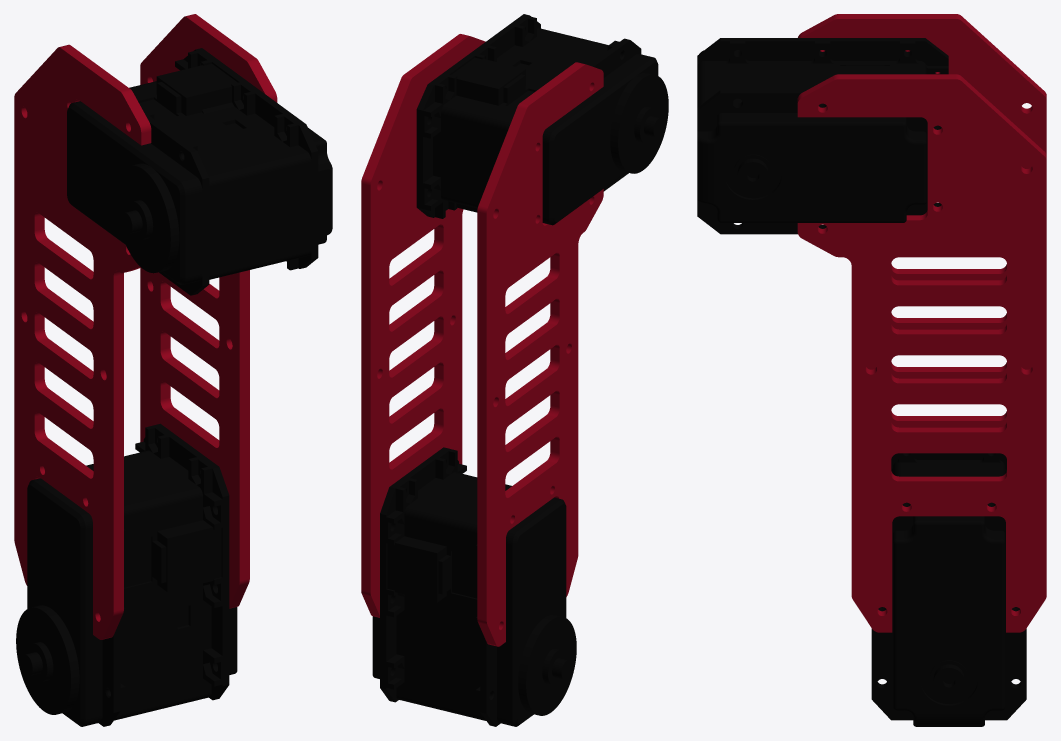
The model's file is shoulder.dae.
3 views of the same model, side by side, from view 1: azimuth 30°, elevation 25°; view 2: azimuth 150°, elevation 25°; view 3: azimuth 270°, elevation 25° (orthographic). The views are drawn at different scales.
Visible parts, largest first — view 1: Shoulder; view 2: Shoulder; view 3: Shoulder.
Boxes of the visible parts, x1,y1,x2,y2 form: Shoulder: (14, 14, 332, 726); Shoulder: (361, 14, 668, 726); Shoulder: (697, 14, 1046, 726).
Bounding box in the file's own units: 0.0553 × 0.0905 × 0.1846.
